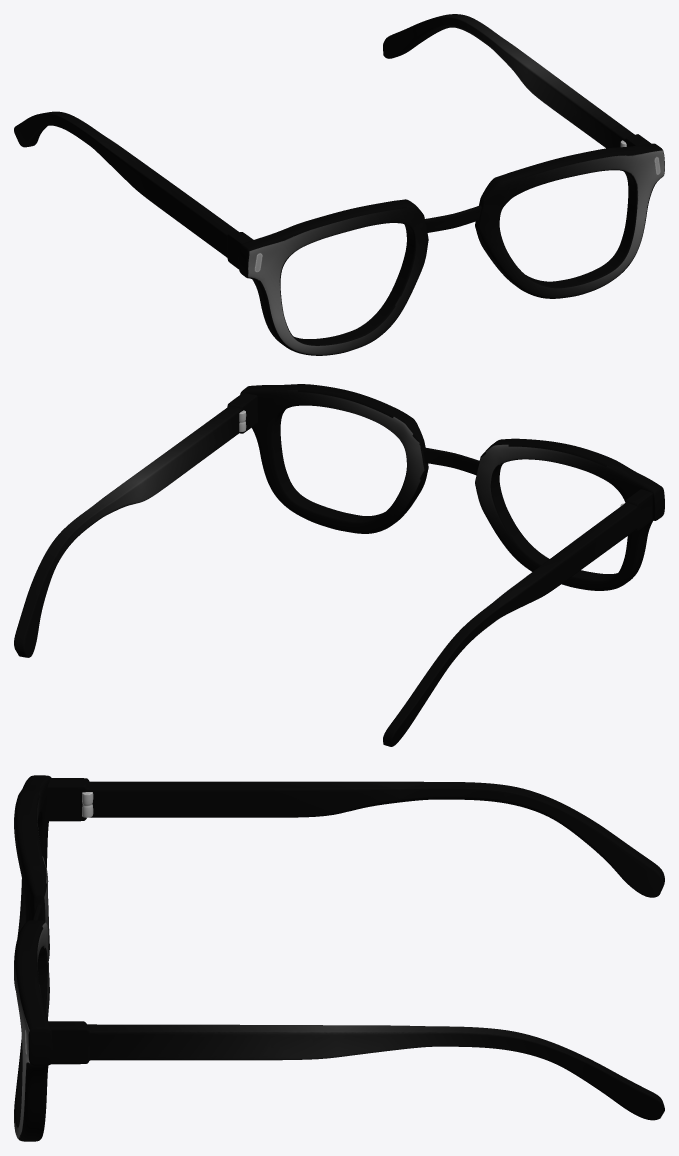
Rendered from glasses.fbx.
The picture shows the model from 3 angles, top to bottom: view 1: azimuth 30°, elevation 25°; view 2: azimuth 150°, elevation 25°; view 3: azimuth 270°, elevation 25°; orthographic projection. The views are drawn at different scales.
Visible parts, largest first — view 1: Nerd_Glasses_v1_new1:Nerd_Glasses_v1_new1:_Nerd_Glasses1; view 2: Nerd_Glasses_v1_new1:Nerd_Glasses_v1_new1:_Nerd_Glasses1; view 3: Nerd_Glasses_v1_new1:Nerd_Glasses_v1_new1:_Nerd_Glasses1.
Part boxes in pixels (x1,y1,x2,y2): Nerd_Glasses_v1_new1:Nerd_Glasses_v1_new1:_Nerd_Glasses1: (14, 14, 664, 355); Nerd_Glasses_v1_new1:Nerd_Glasses_v1_new1:_Nerd_Glasses1: (14, 384, 664, 746); Nerd_Glasses_v1_new1:Nerd_Glasses_v1_new1:_Nerd_Glasses1: (14, 775, 664, 1141).
Size of the model in its own units: 13.55 by 4.23 by 14.56.
Materials: 1 (1 with a texture image).
